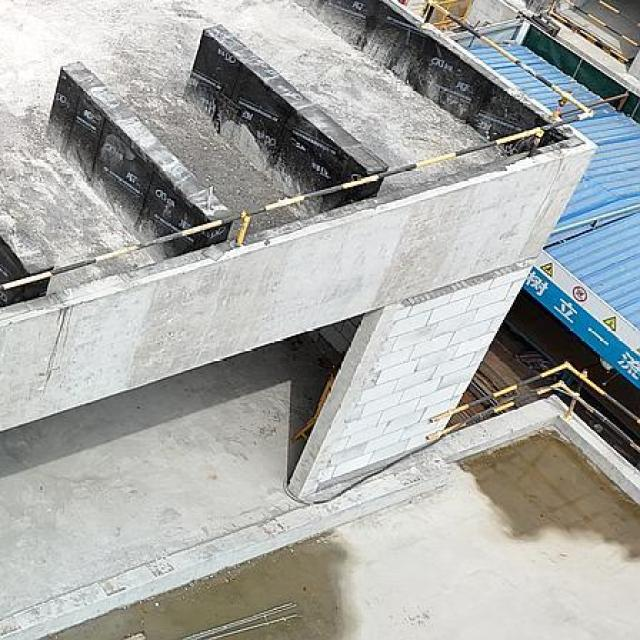edge_guardrail: (0, 0, 597, 294), (425, 359, 640, 454), (560, 0, 640, 49)
